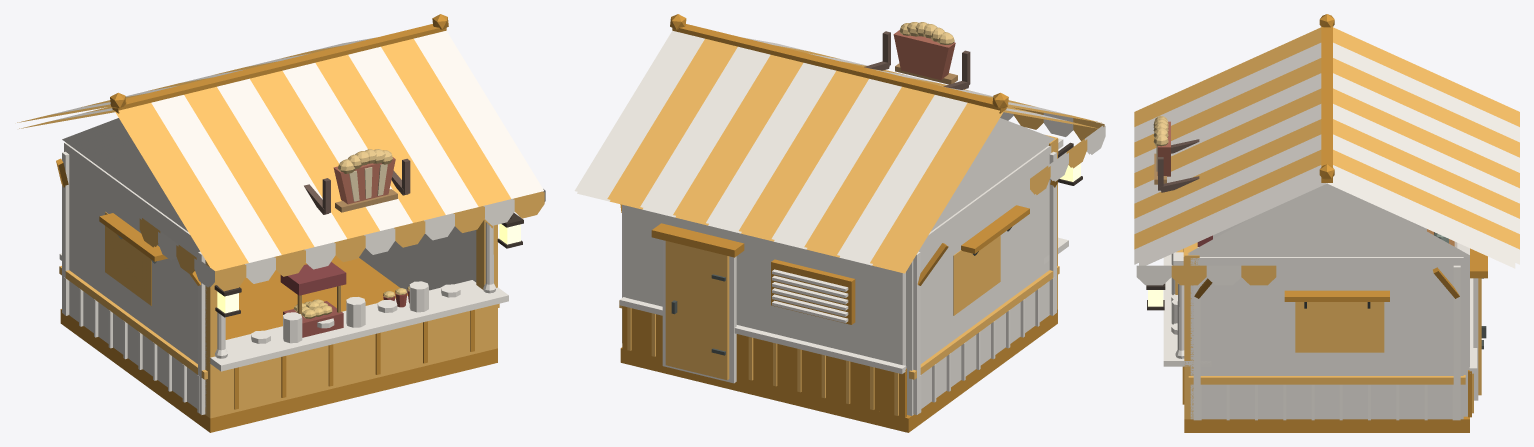
The model's file is kiosk-popcorn.glb.
3 views of the same model, side by side, from view 1: azimuth 30°, elevation 25°; view 2: azimuth 150°, elevation 25°; view 3: azimuth 270°, elevation 25° (orthographic). The views are drawn at different scales.
Visible parts, largest first — view 1: kiosk-popcorn, Midway_counter_service_walls_and_joinery; view 2: kiosk-popcorn, Midway_counter_service_walls_and_joinery; view 3: kiosk-popcorn, Midway_counter_service_walls_and_joinery.
Boxes of the visible parts, left/top/right/bottom form: kiosk-popcorn: left=17, top=14, right=545, bottom=432; Midway_counter_service_walls_and_joinery: left=56, top=149, right=499, bottom=414; kiosk-popcorn: left=574, top=14, right=1105, bottom=432; Midway_counter_service_walls_and_joinery: left=619, top=22, right=1063, bottom=417; kiosk-popcorn: left=1134, top=14, right=1519, bottom=432; Midway_counter_service_walls_and_joinery: left=1153, top=116, right=1487, bottom=420.
Bounding box in the file's own units: 5.85 × 4.81 × 6.08.
